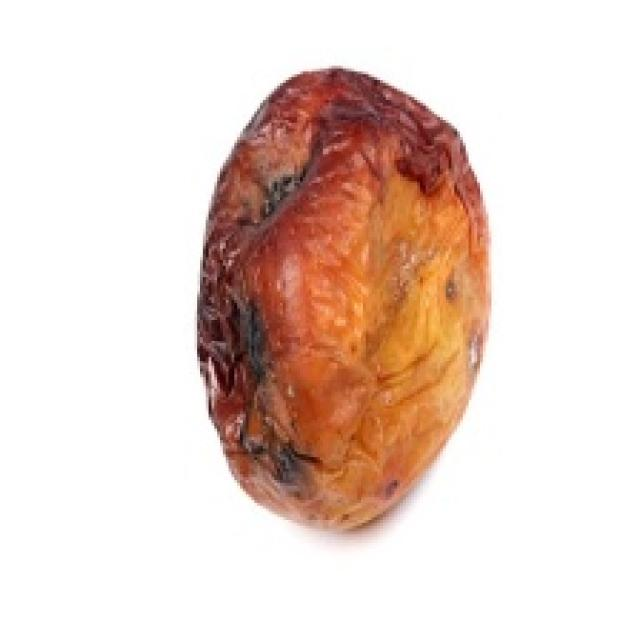rotten_apple: (210, 72, 483, 520)
